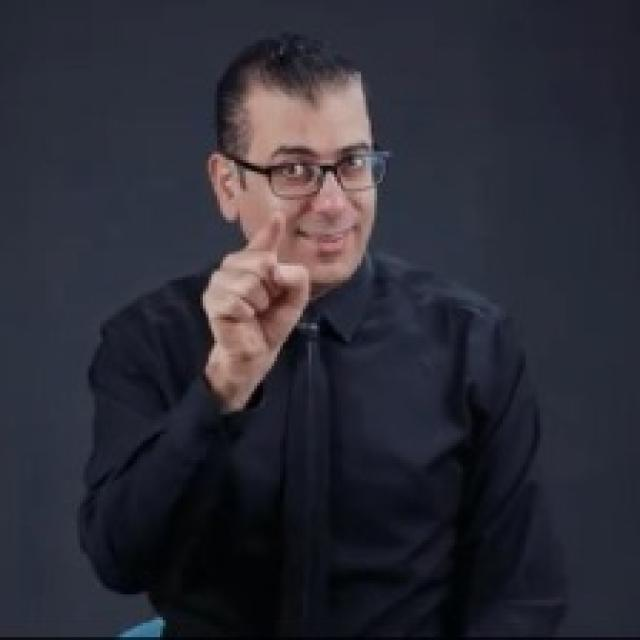you: (202, 210, 314, 370)
